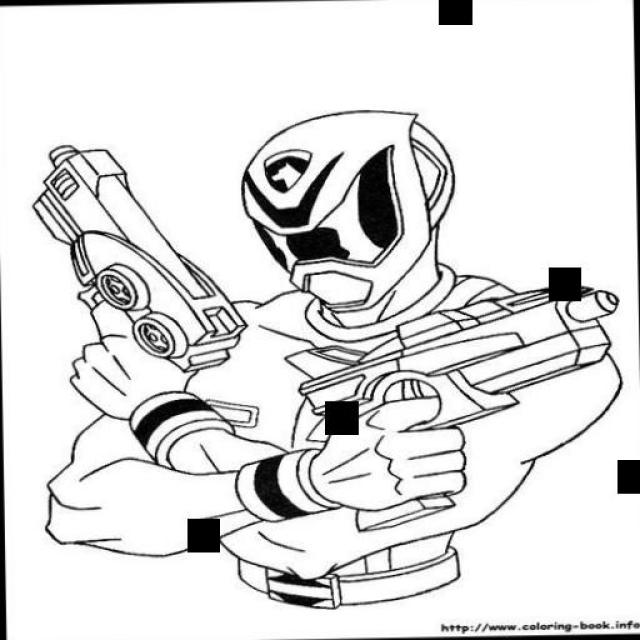gun: (291, 280, 625, 536), (21, 140, 251, 382)
